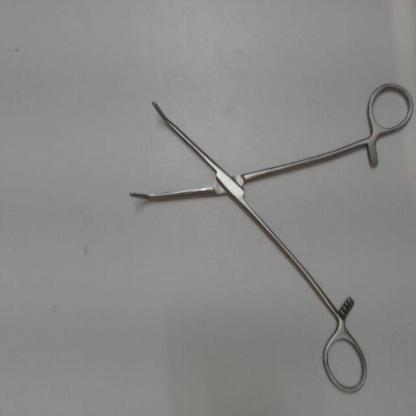Lahey Forceps: (124, 77, 416, 399)
